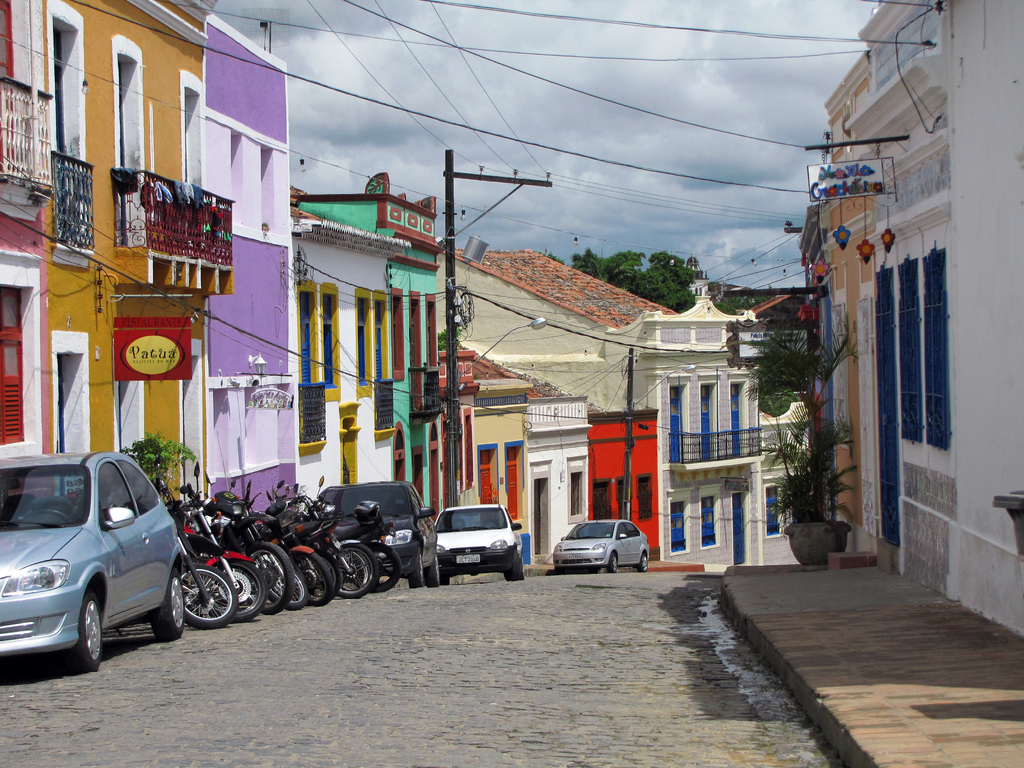mobil: (433, 502, 528, 588), (553, 518, 650, 572)
